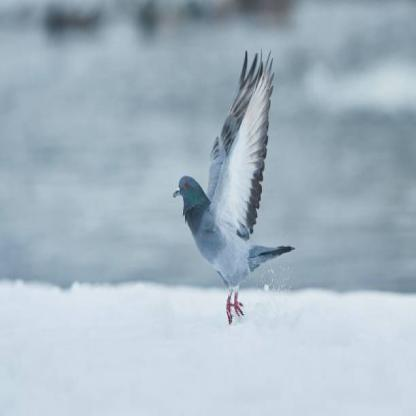Rock Pigeon: (171, 122, 296, 321)
